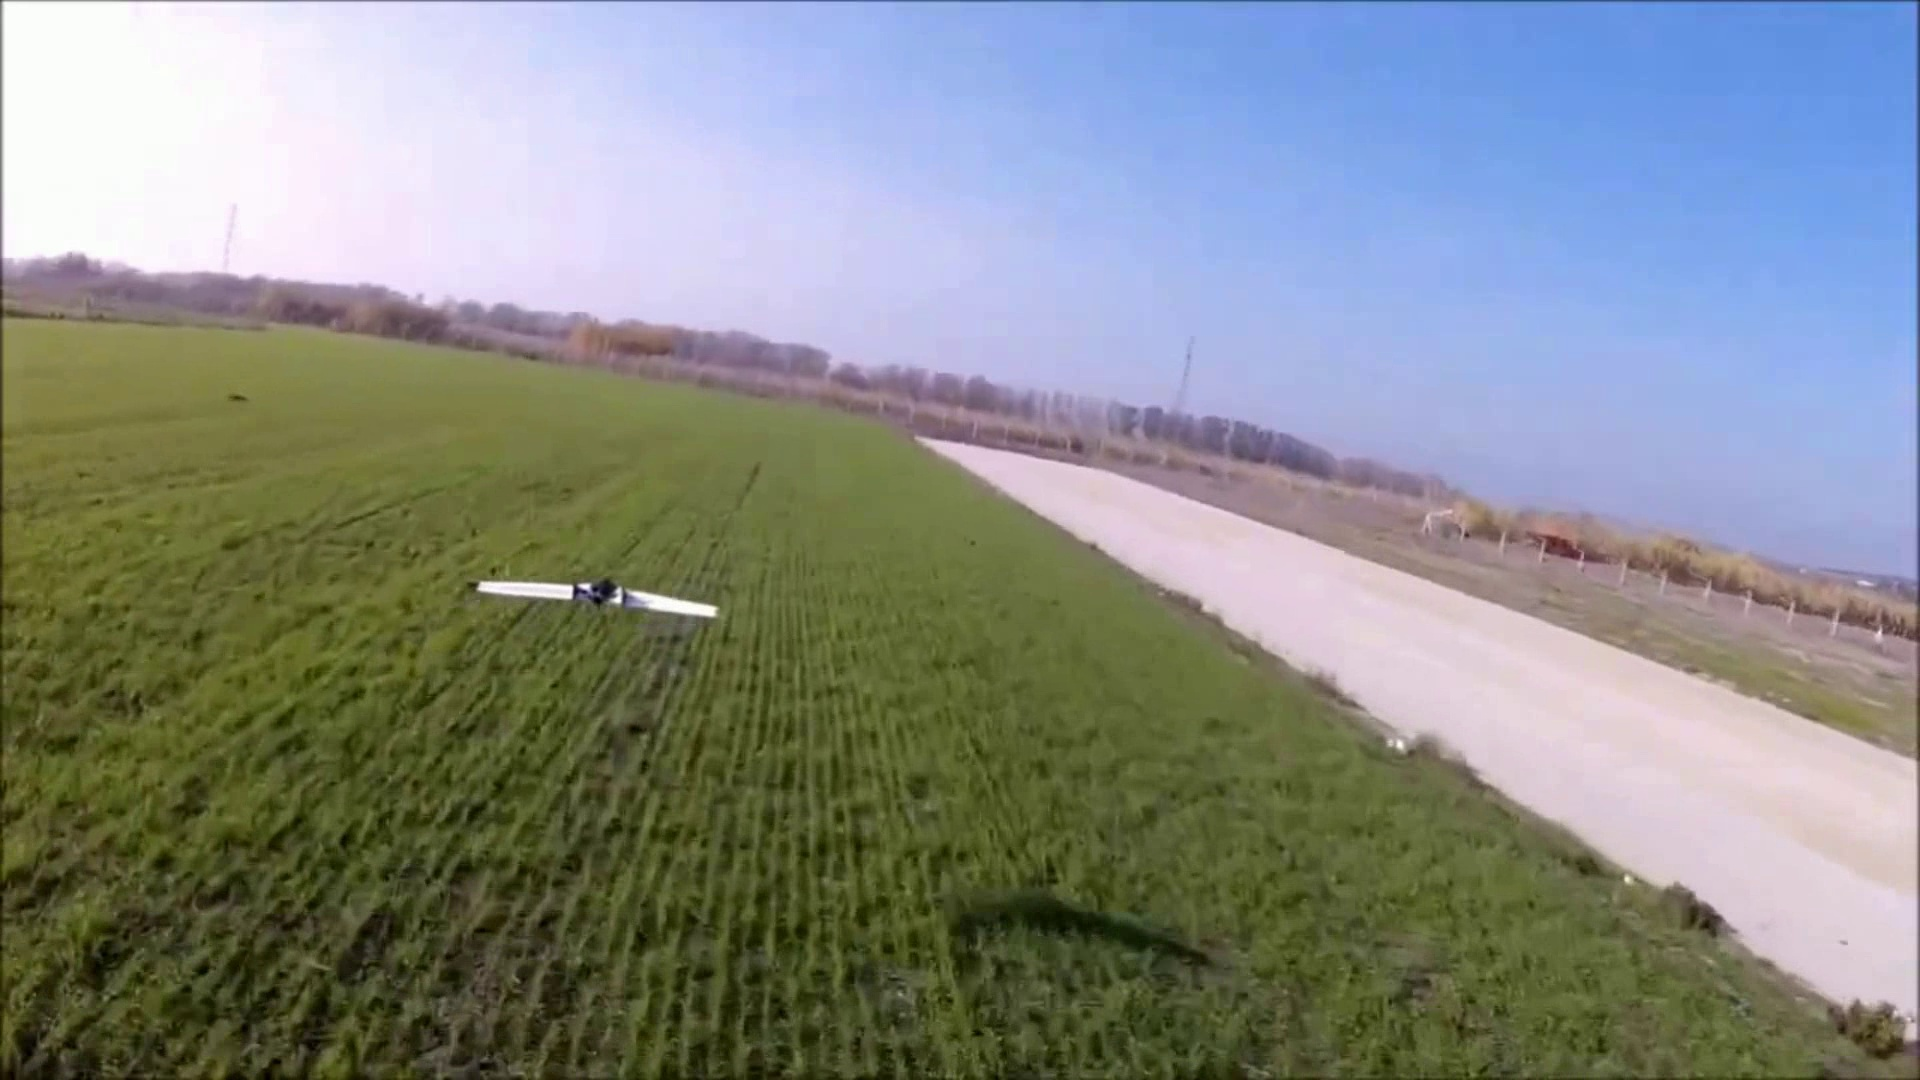airplane: (476, 577, 719, 627)
